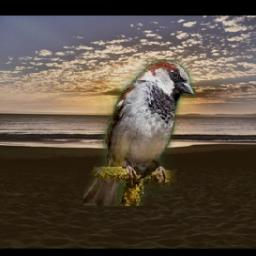Sparrow: (84, 60, 195, 207)
